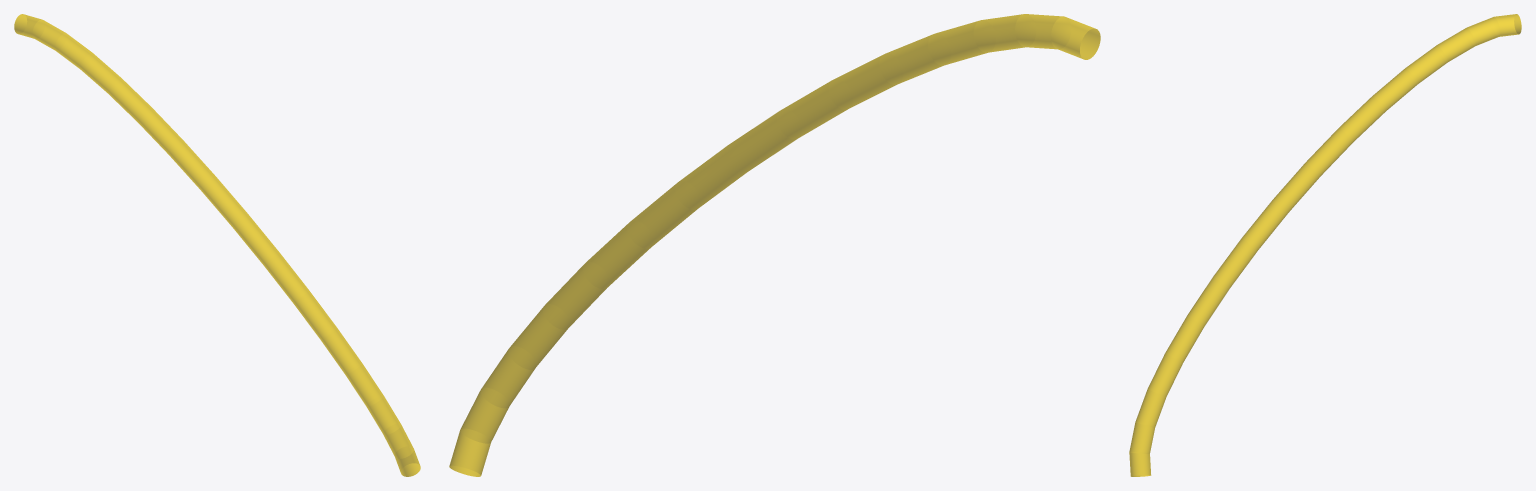
The model's file is Event_100608114_track_71.fbx.
The picture shows the model from 3 angles, left to right: view 1: azimuth 30°, elevation 25°; view 2: azimuth 210°, elevation 25°; view 3: azimuth 270°, elevation 25°; orthographic projection. The views are drawn at different scales.
Visible parts, largest first — view 1: Model; view 2: Model; view 3: Model.
Part boxes in pixels (x1=…): Model: x1=14, y1=14, x2=420, y2=476; Model: x1=449, y1=14, x2=1100, y2=476; Model: x1=1129, y1=14, x2=1521, y2=476.
Size of the model in its own units: 0.4831 by 0.7855 by 0.7588.
